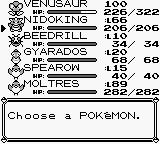seleccionado: (0, 23, 8, 33)
texto: (1, 97, 159, 143)
